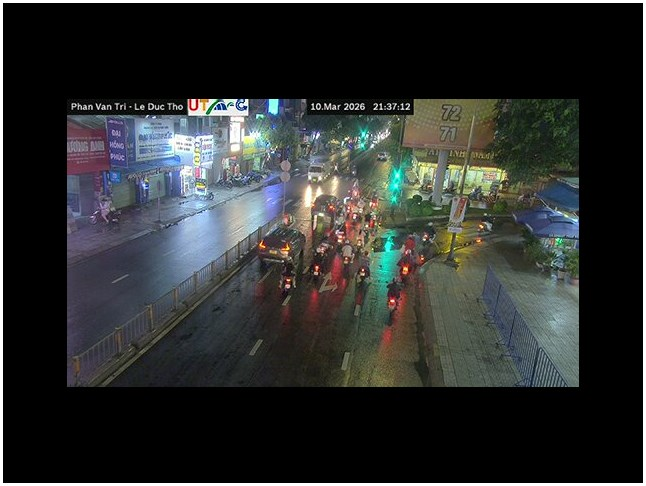car: (255, 225, 305, 273), (256, 227, 301, 262)
